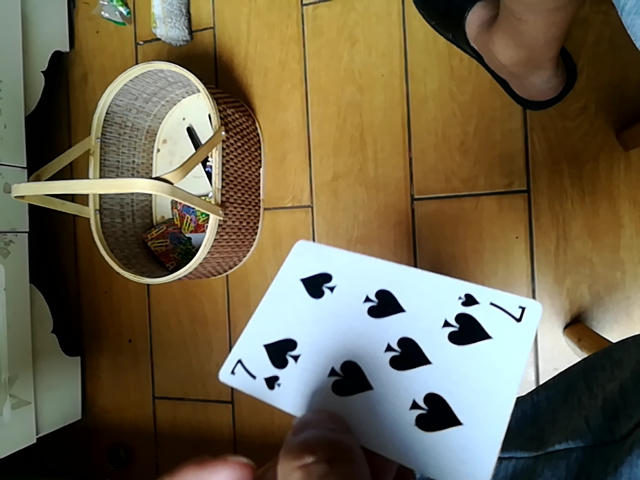ht 7: (225, 237, 542, 478)
